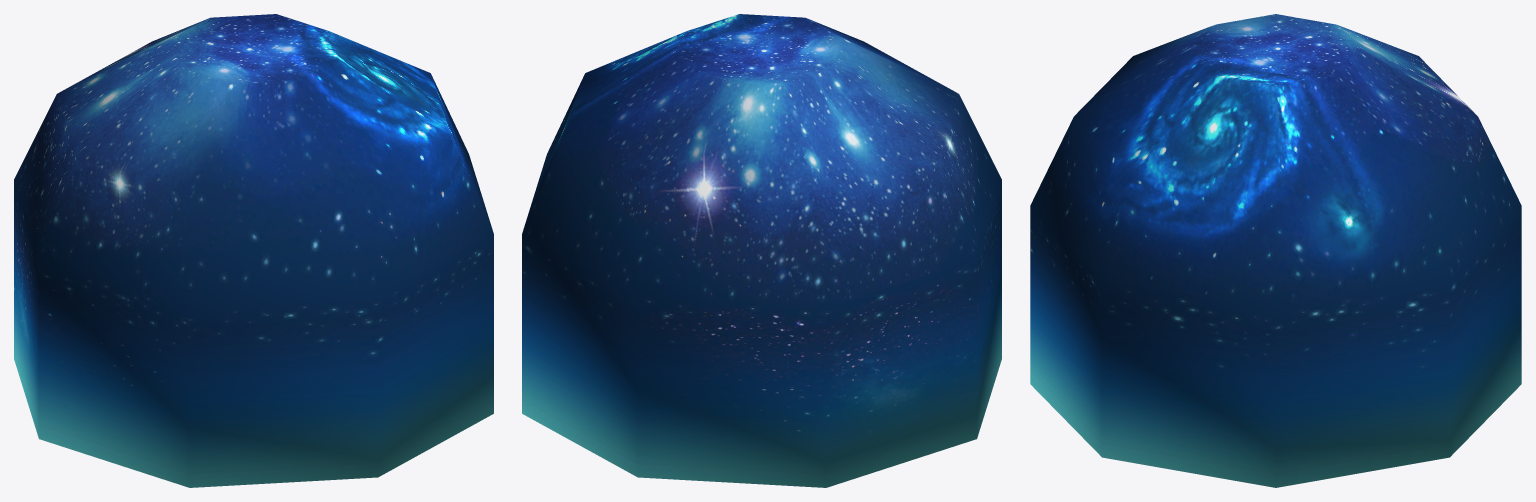
Rendered from Rose Skybox.fbx.
3 views of the same model, side by side, from view 1: azimuth 30°, elevation 25°; view 2: azimuth 150°, elevation 25°; view 3: azimuth 270°, elevation 25° (orthographic).
Parts seen in each view (by area): view 1: Cylinder; view 2: Cylinder; view 3: Cylinder.
Boxes of the visible parts, x1=… form: Cylinder: x1=14, y1=14, x2=493, y2=487; Cylinder: x1=522, y1=14, x2=1001, y2=487; Cylinder: x1=1030, y1=14, x2=1521, y2=487.
Size of the model in its own units: 200 by 150 by 200.
